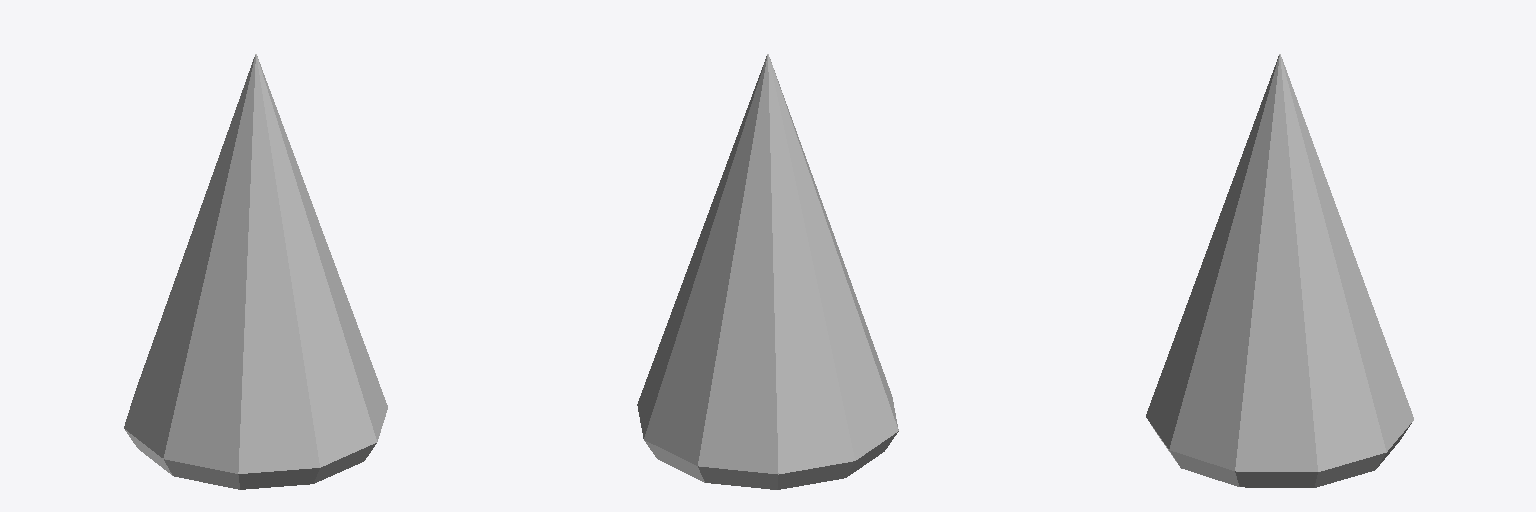
Rendered from Tree_z_Icon_7.obj.
The picture shows the model from 3 angles: view 1: azimuth 30°, elevation 25°; view 2: azimuth 150°, elevation 25°; view 3: azimuth 270°, elevation 25°; orthographic projection.
Parts seen in each view (by area): view 1: Mesh1 Model; view 2: Mesh1 Model; view 3: Mesh1 Model.
Boxes of the visible parts, x1,y1,x2,y2 form: Mesh1 Model: [124, 54, 387, 489]; Mesh1 Model: [637, 54, 898, 489]; Mesh1 Model: [1146, 54, 1413, 487].
Size of the model in its own units: 143 by 246 by 149.